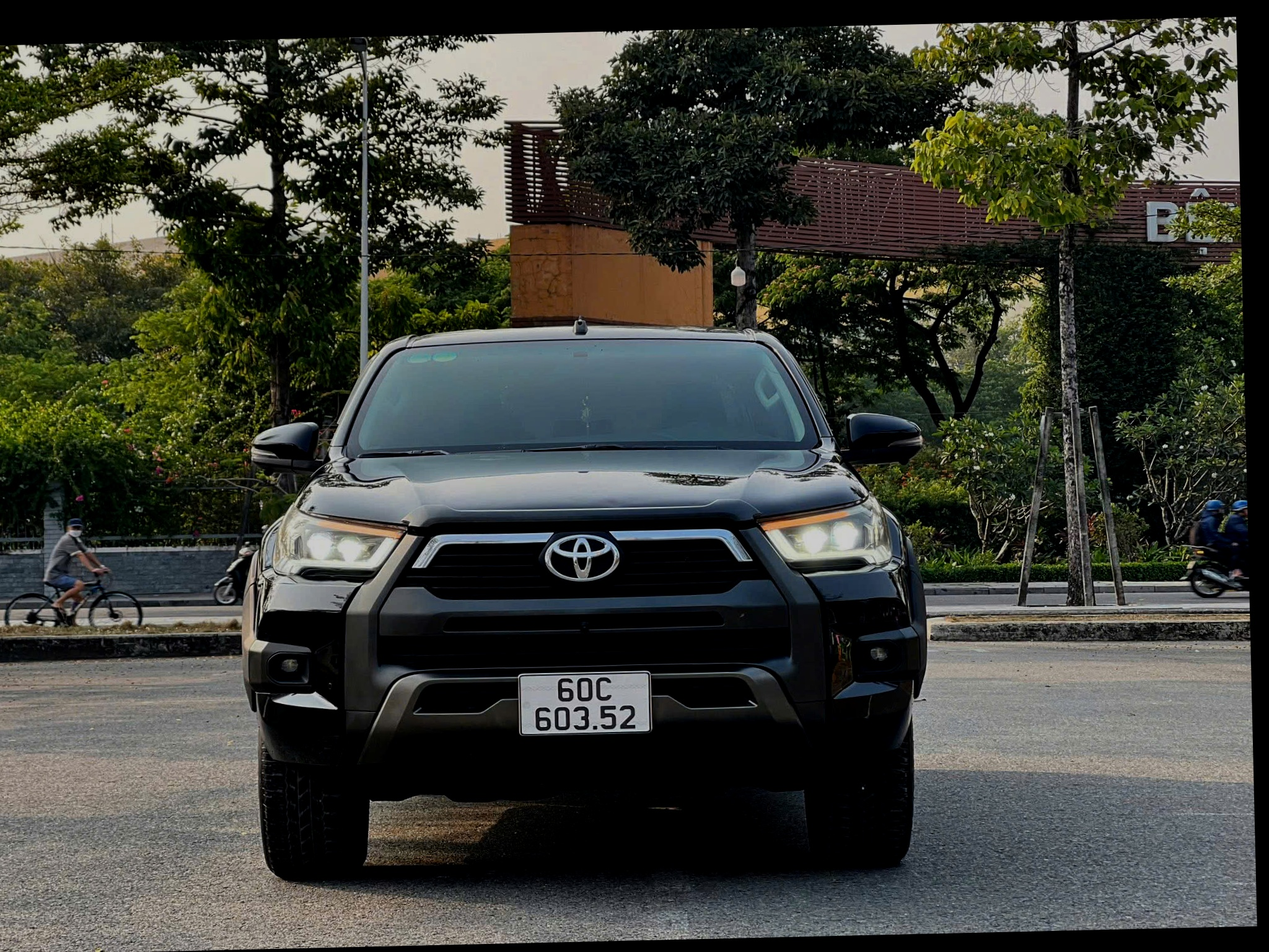Bien-so: (522, 677, 665, 764)
